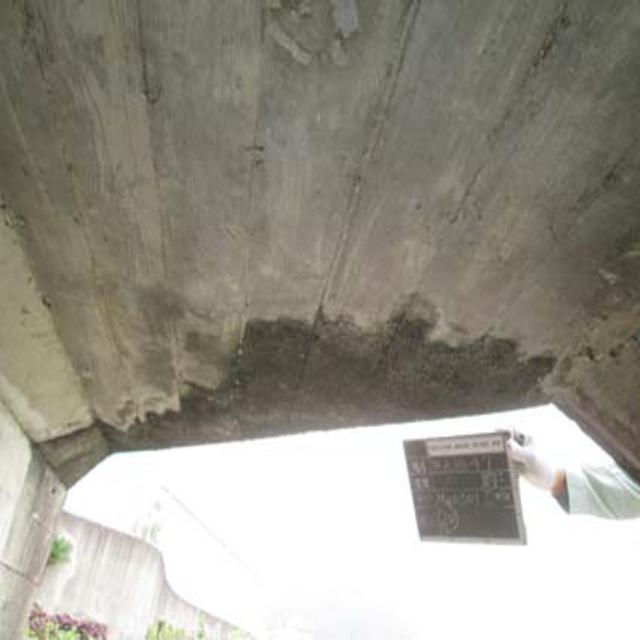leakage: (126, 324, 571, 452)
